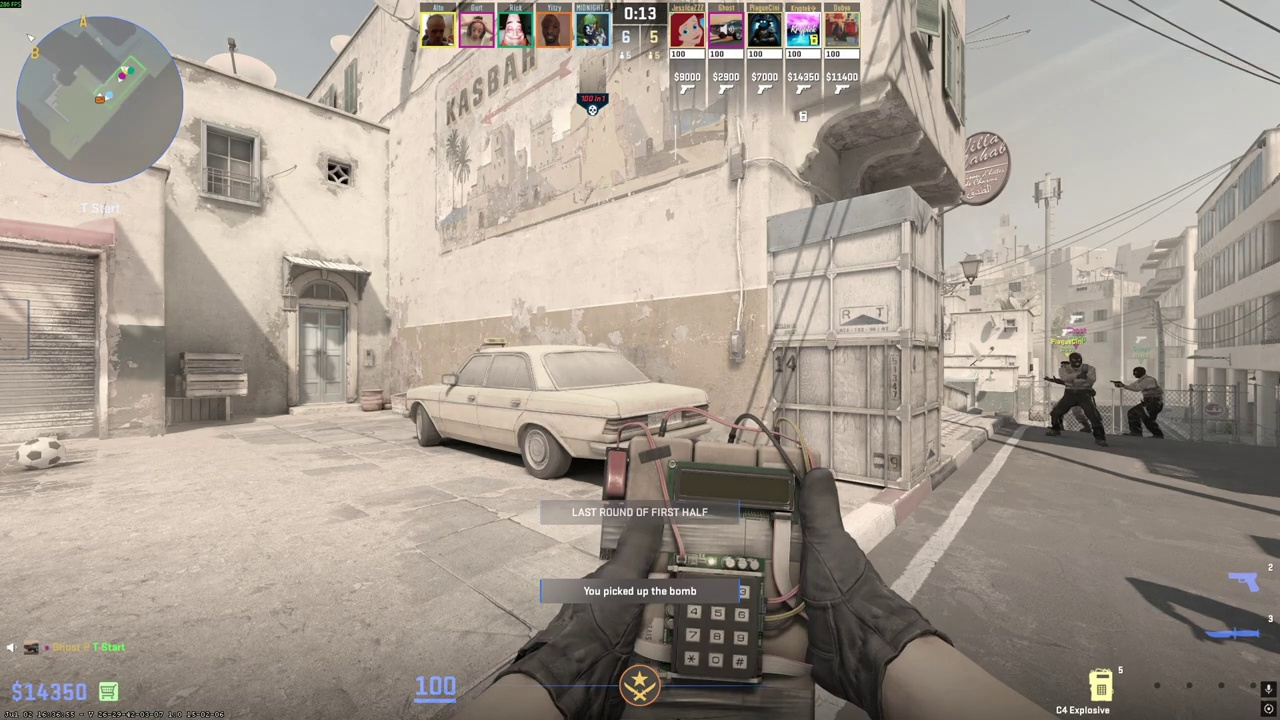Terrorist: (1045, 352, 1109, 447), (1120, 367, 1165, 439)
